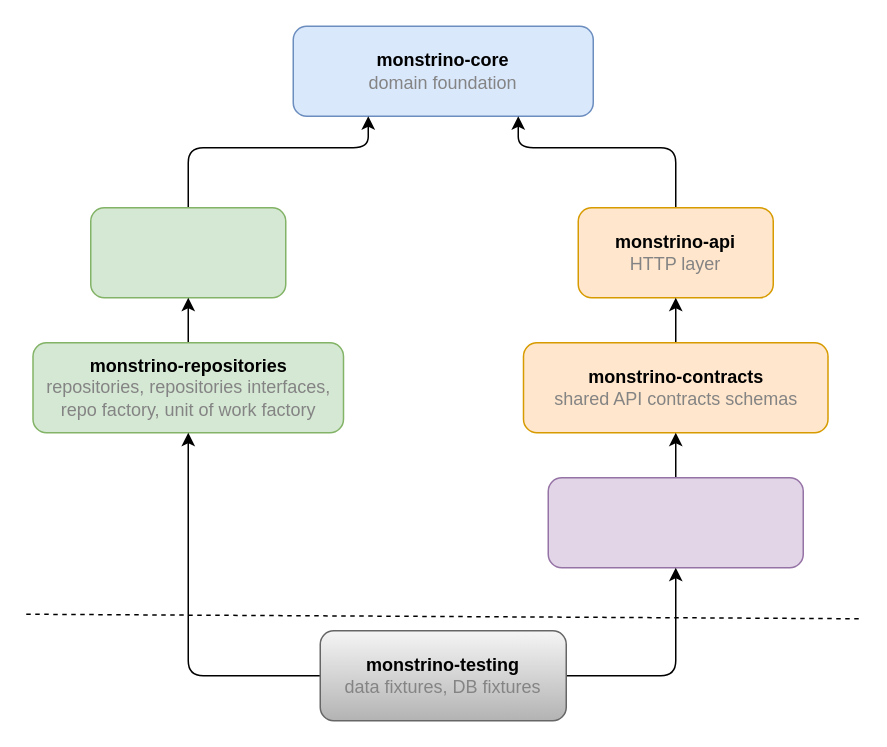
The diagram is 887 pixels wide and 747 high, and some of its shapes have lost their labels. The shapes that lost their labels are listed below. From the top down, each one's centre as x and y in pixels, then its label:
At point 187,252: "monstrino-models ORM + DTOs".
At point 675,522: "monstrino-infra adapters, api clients, scrapers, scheduler".
